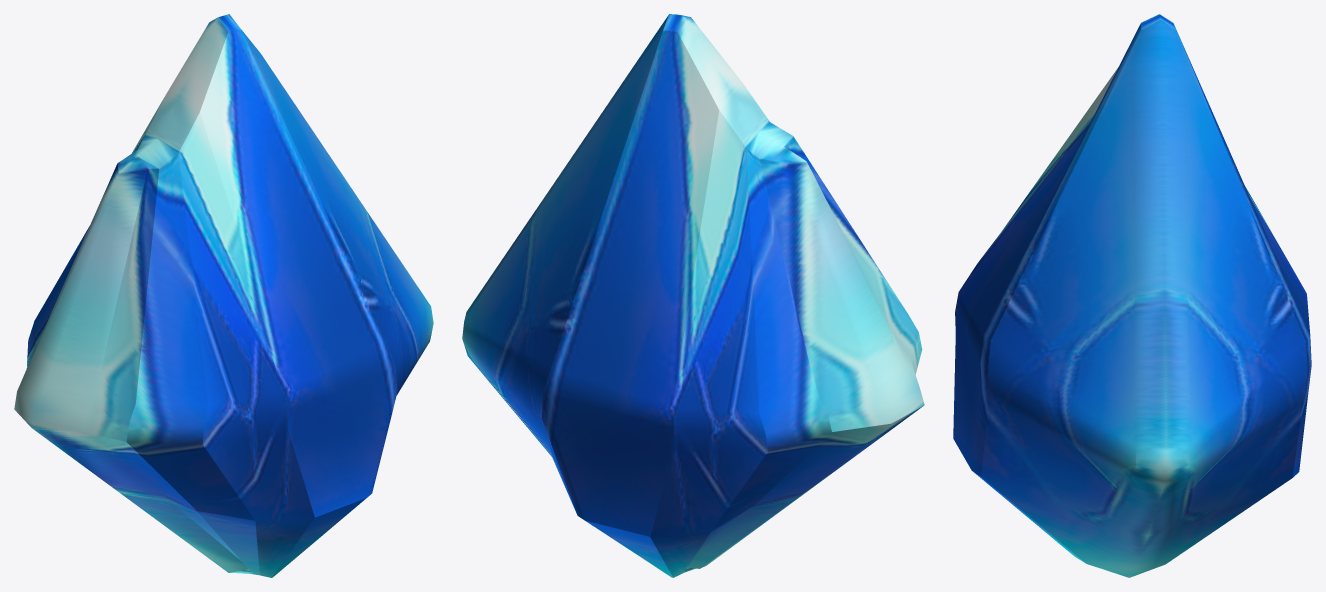
File: ShardSpin.fbx
3 renders of one model, left to right at view 1: azimuth 30°, elevation 25°; view 2: azimuth 150°, elevation 25°; view 3: azimuth 270°, elevation 25°, orthographic. The views are drawn at different scales.
Visible parts, largest first — view 1: Shard; view 2: Shard; view 3: Shard.
Part boxes in pixels (x1,y1,x2,y2): Shard: (14, 14, 433, 577); Shard: (462, 14, 924, 577); Shard: (953, 14, 1311, 577).
Size of the model in its own units: 4.19 by 5.24 by 3.09.
Materials: 1 (1 with a texture image).
